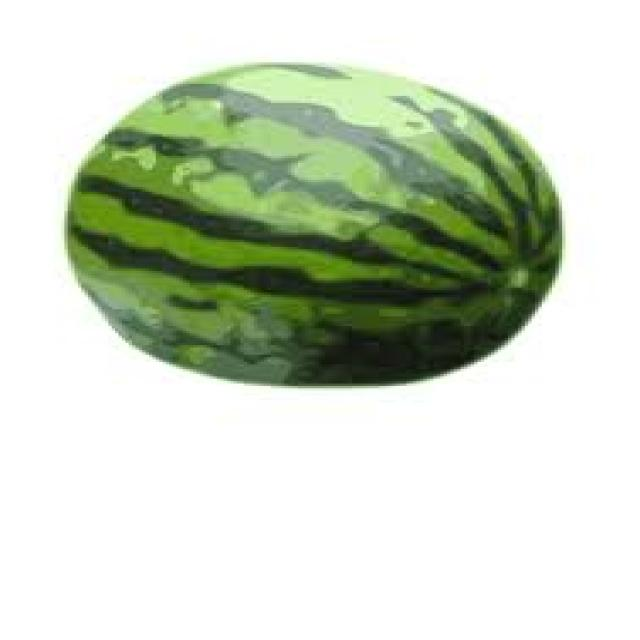watermelon: (61, 57, 562, 386)
